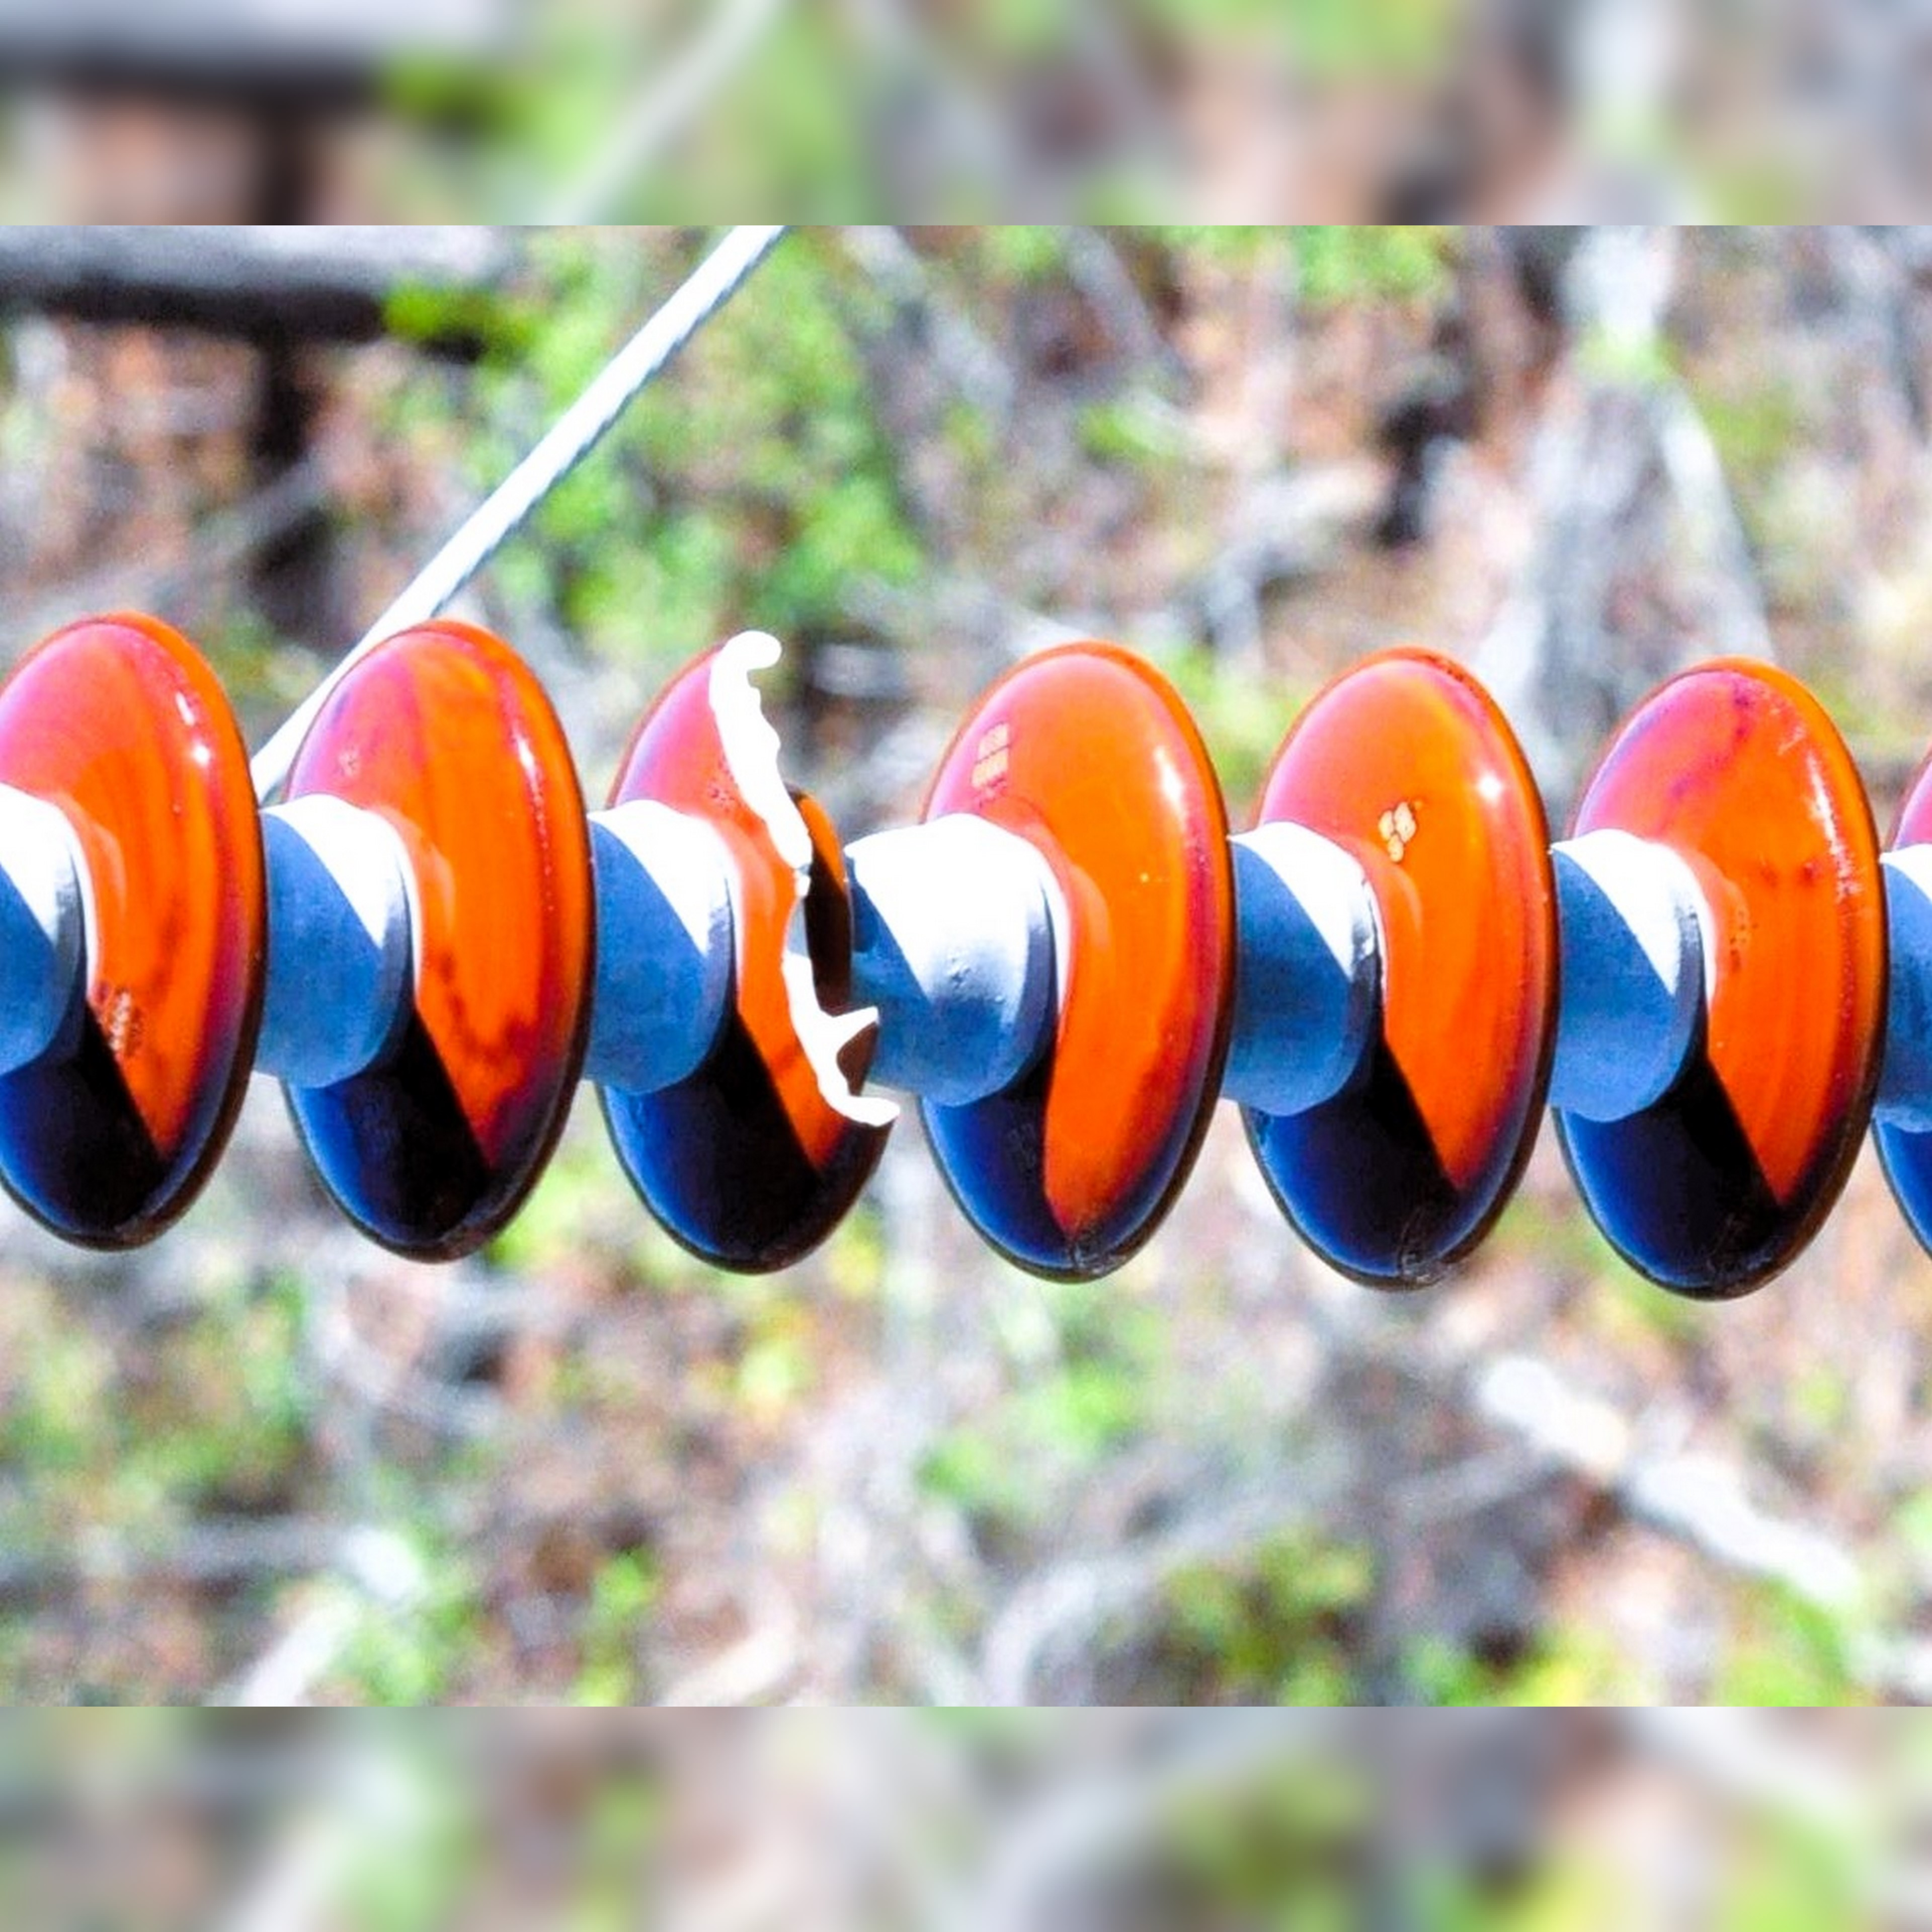insulator breakage: (596, 623, 906, 1277)
